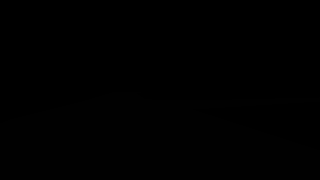turn_right: (221, 40, 244, 64)
